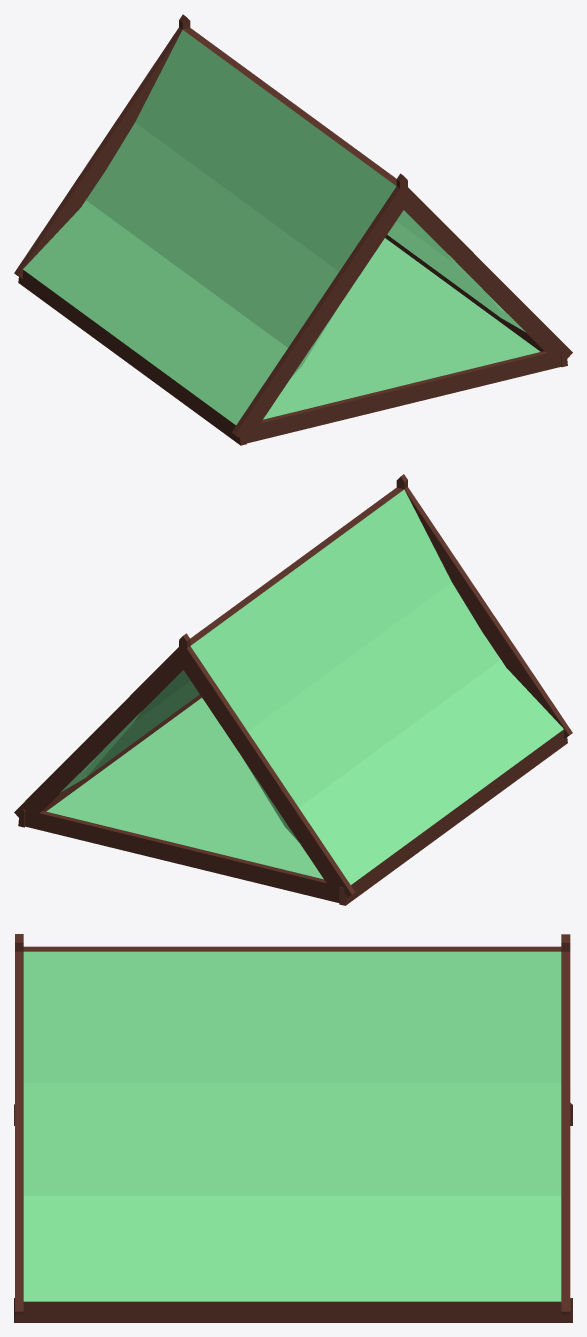
Rendered from tent.glb.
3 renders of one model, top to bottom at view 1: azimuth 30°, elevation 25°; view 2: azimuth 150°, elevation 25°; view 3: azimuth 270°, elevation 25°, orthographic. The views are drawn at different scales.
Parts seen in each view (by area): view 1: Cube; view 2: Cube; view 3: Cube.
Part boxes in pixels (x1=…): Cube: x1=14, y1=14, x2=572, y2=445; Cube: x1=14, y1=474, x2=572, y2=905; Cube: x1=14, y1=934, x2=572, y2=1322.
Bounding box in the file's own units: 465 × 302 × 530.
